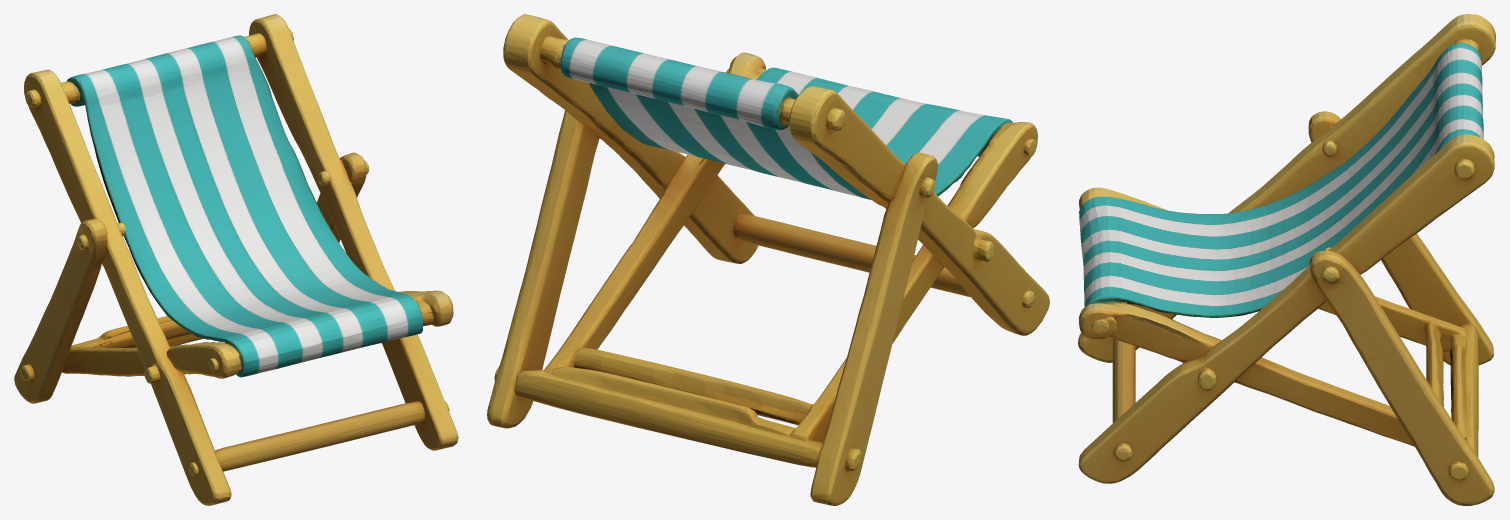
Rendered from beach_chair.glb.
3 renders of one model, left to right at view 1: azimuth 30°, elevation 25°; view 2: azimuth 150°, elevation 25°; view 3: azimuth 270°, elevation 25°, orthographic. The views are drawn at different scales.
Visible parts, largest first — view 1: geometry_0; view 2: geometry_0; view 3: geometry_0.
Boxes of the visible parts, <box> form: geometry_0: <box>14,14,458,505</box>; geometry_0: <box>487,14,1049,505</box>; geometry_0: <box>1078,14,1495,505</box>.
Bounding box in the file's own units: 0.8648 × 0.9315 × 0.9928.
Materials: 1 (1 with a texture image).
